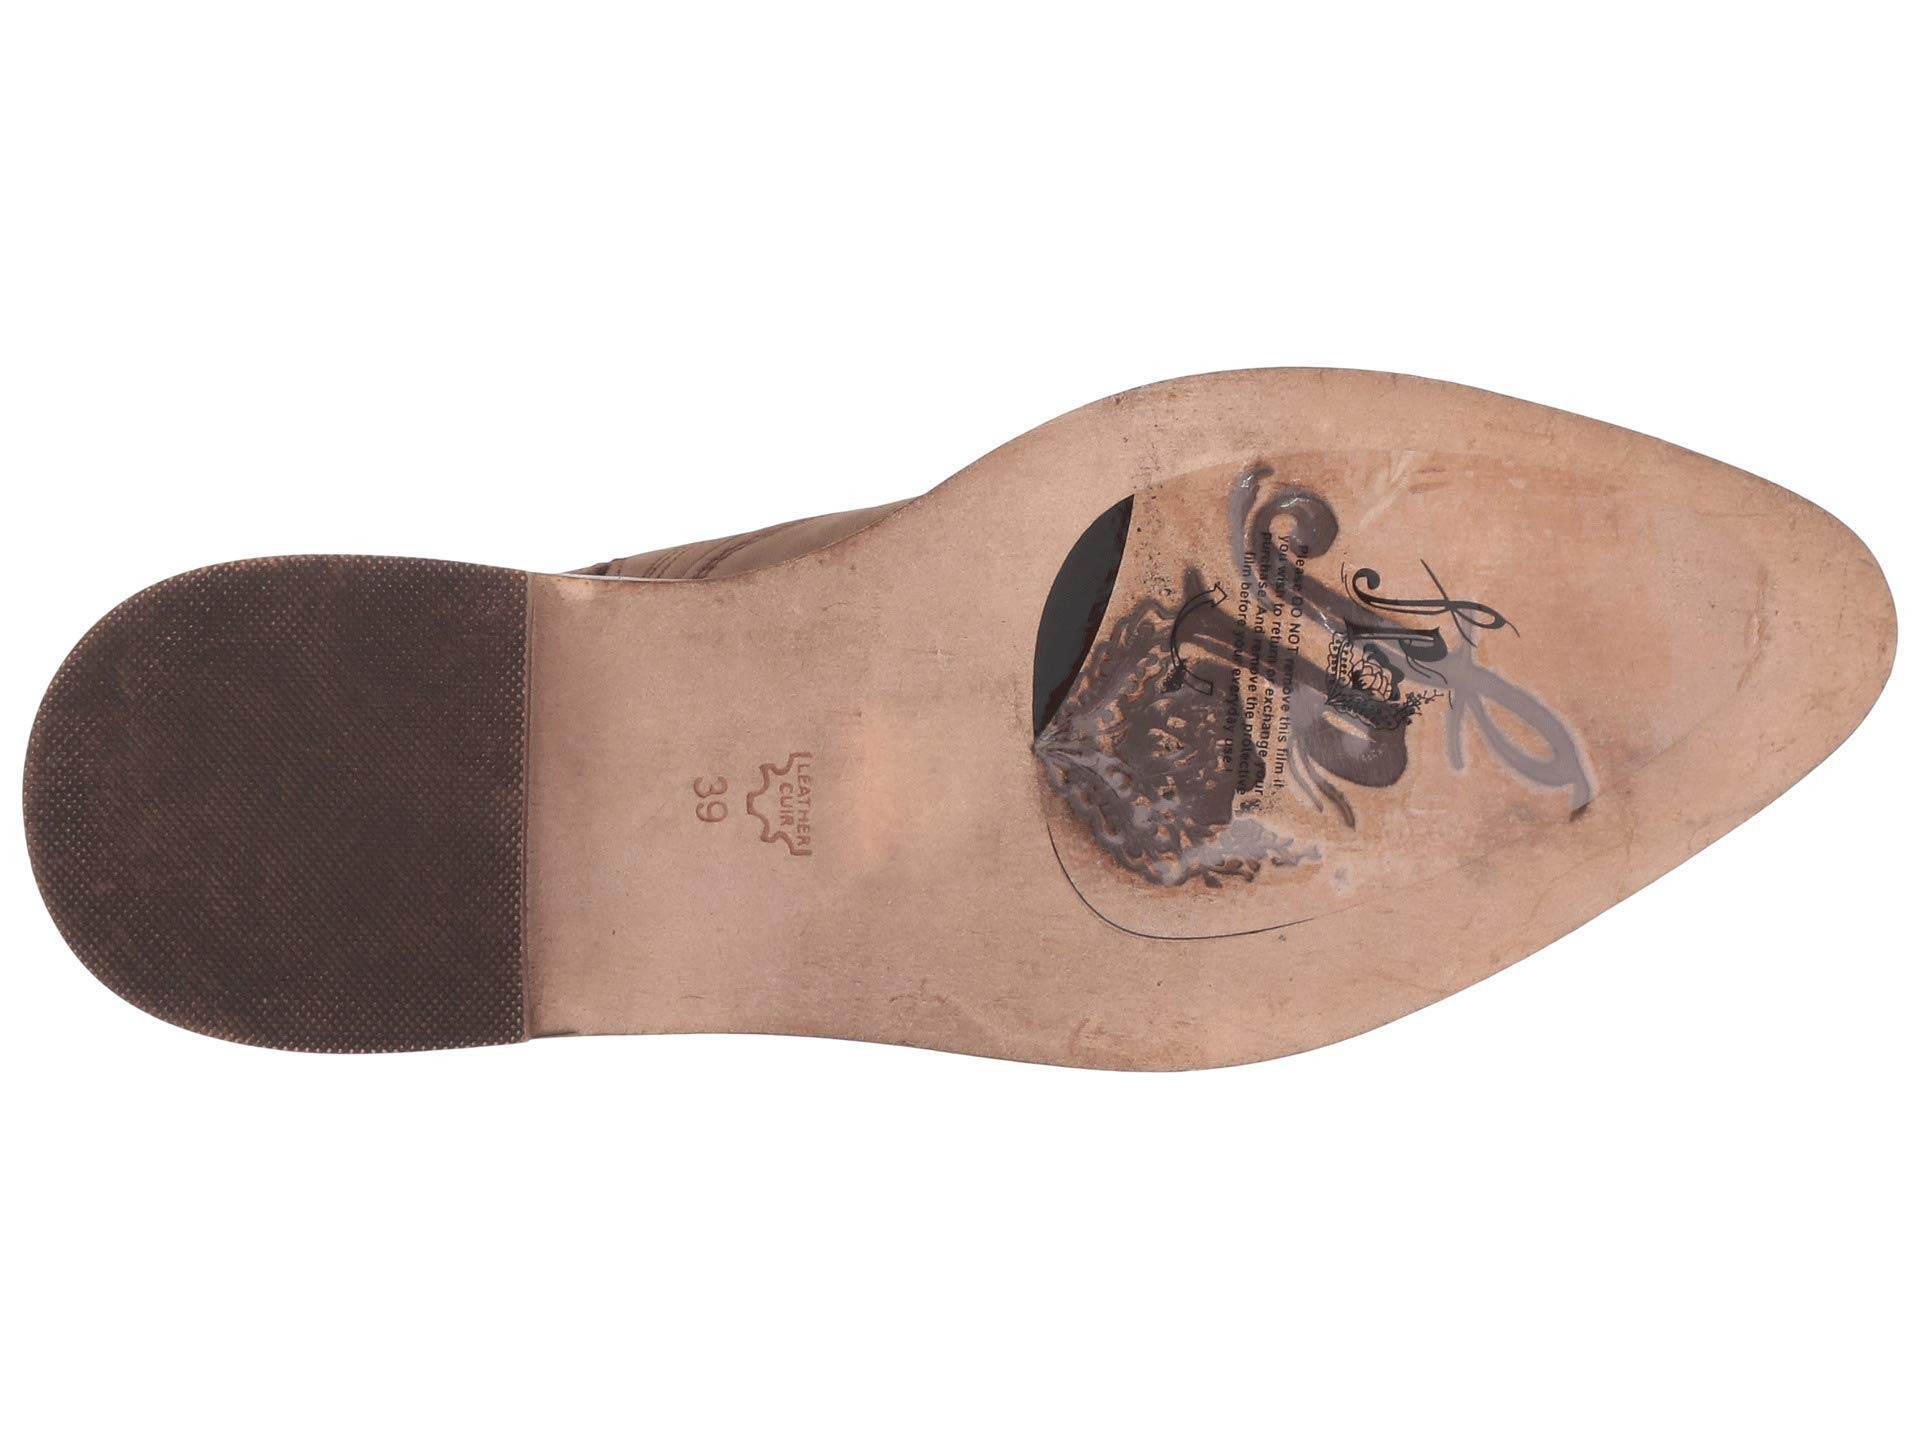exclude: (998, 396, 1787, 957)
other: (646, 664, 865, 923)
quad: (218, 593, 469, 926)
text: (646, 664, 865, 923)
